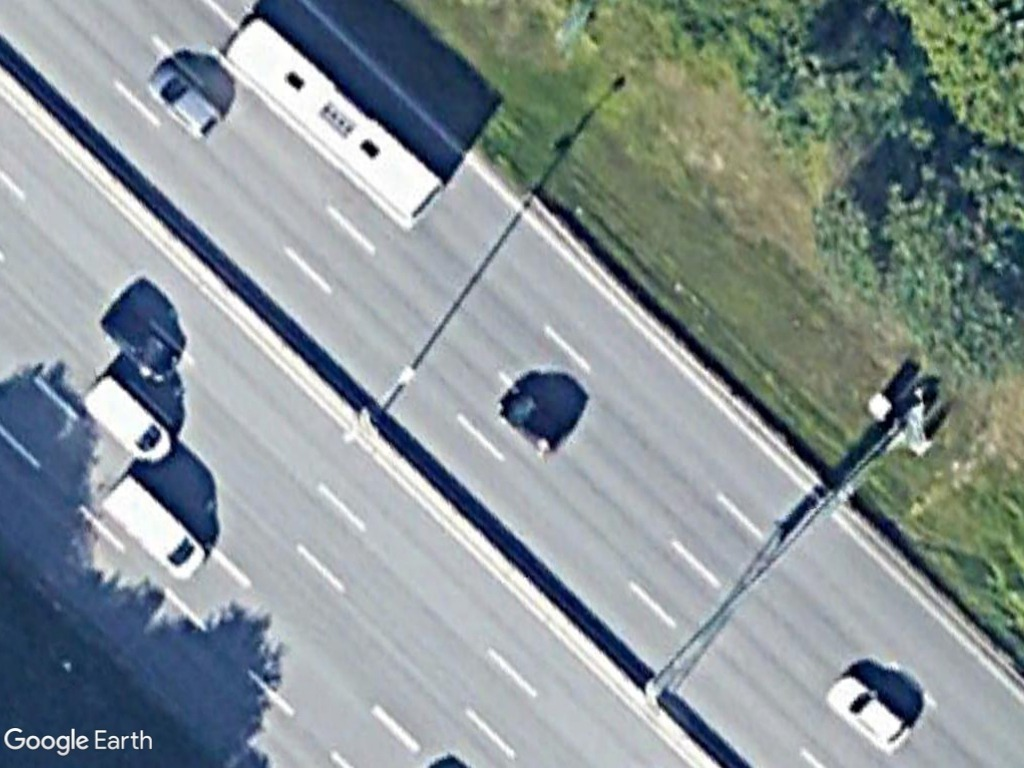bus: (217, 9, 444, 223)
car: (822, 675, 916, 759), (146, 61, 227, 139)
van: (96, 473, 212, 579), (81, 377, 180, 466)
